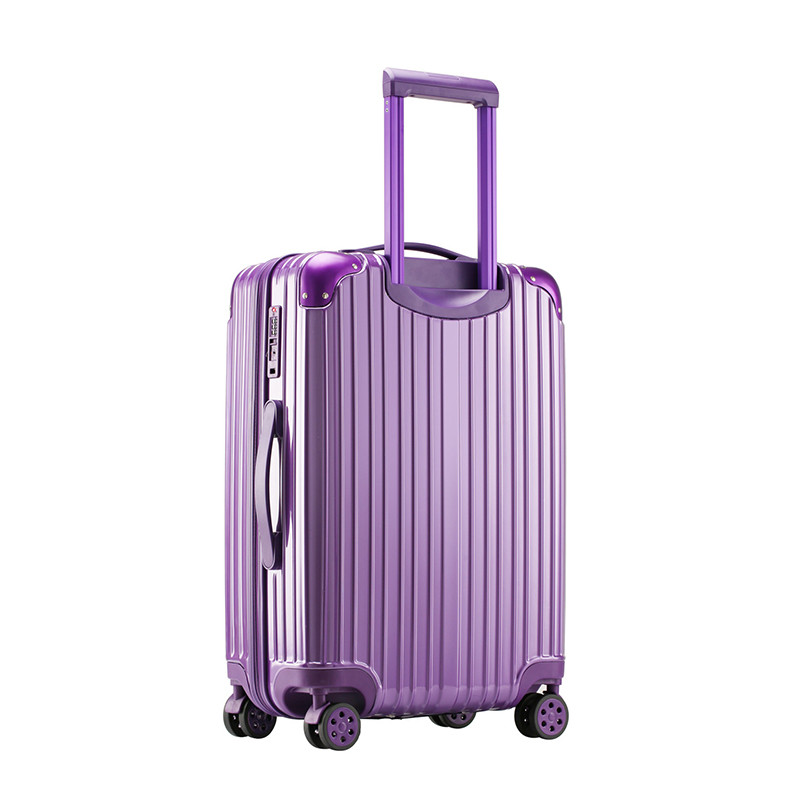suitcase: (221, 65, 570, 752)
